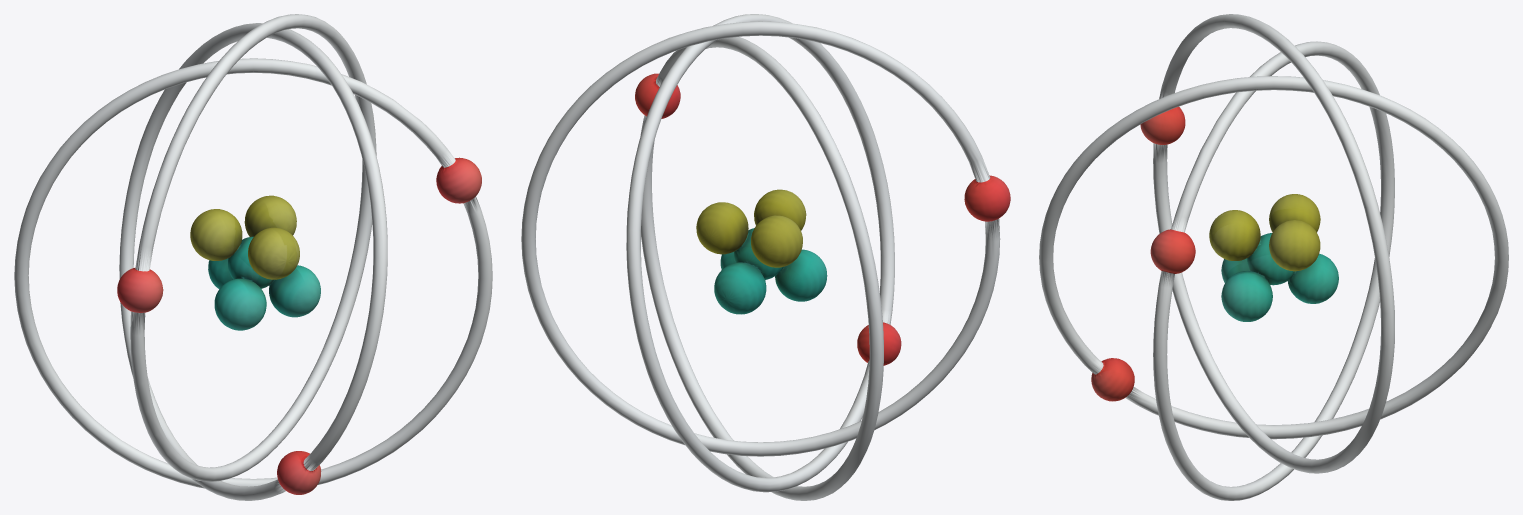
Rendered from atom.gltf.
3 views of the same model, side by side, from view 1: azimuth 30°, elevation 25°; view 2: azimuth 150°, elevation 25°; view 3: azimuth 270°, elevation 25° (orthographic).
Visible parts, largest first — view 1: node-0; view 2: node-0; view 3: node-0.
Boxes of the visible parts, x1=… form: node-0: x1=14, y1=14, x2=492, y2=500; node-0: x1=521, y1=14, x2=1010, y2=500; node-0: x1=1039, y1=14, x2=1508, y2=500.
Size of the model in its own units: 93.95 by 112 by 105.
Materials: 1 (1 with a texture image).
